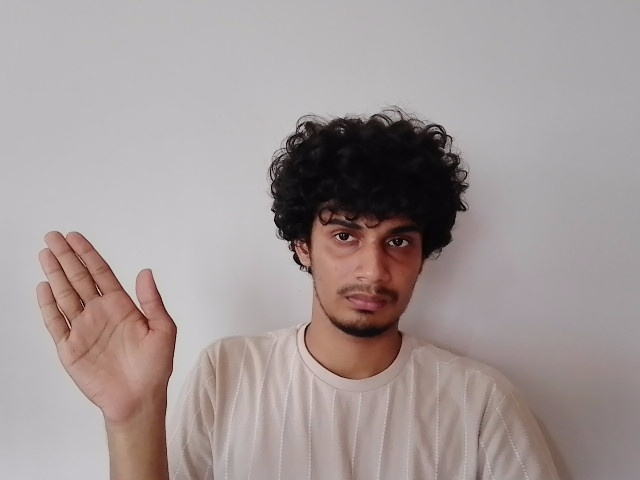hello: (34, 228, 184, 412)
